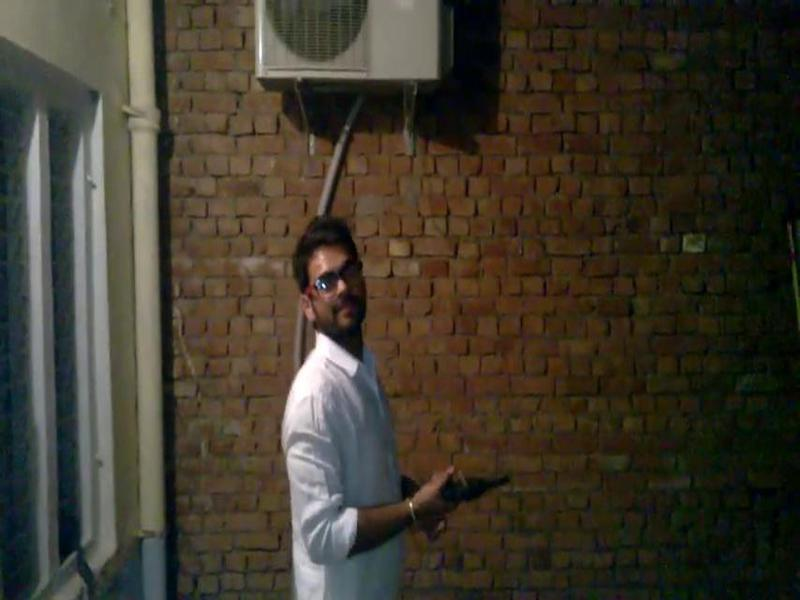Revolver: (399, 450, 523, 526)
